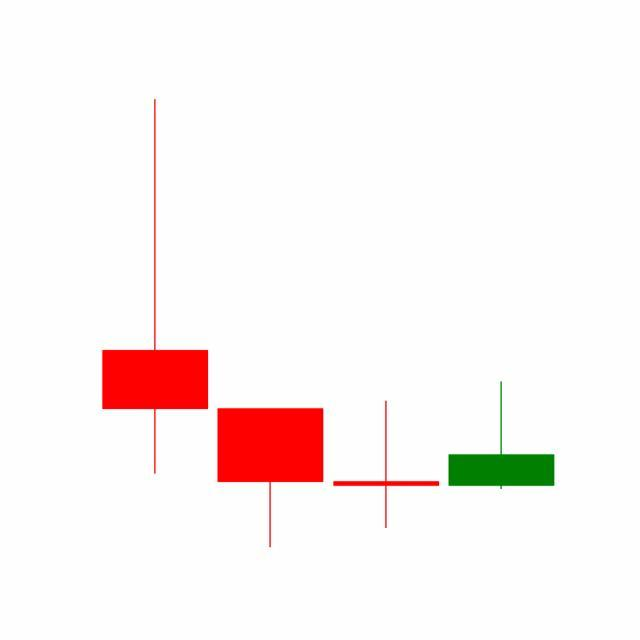Gravestone Doji: (329, 399, 445, 530)
